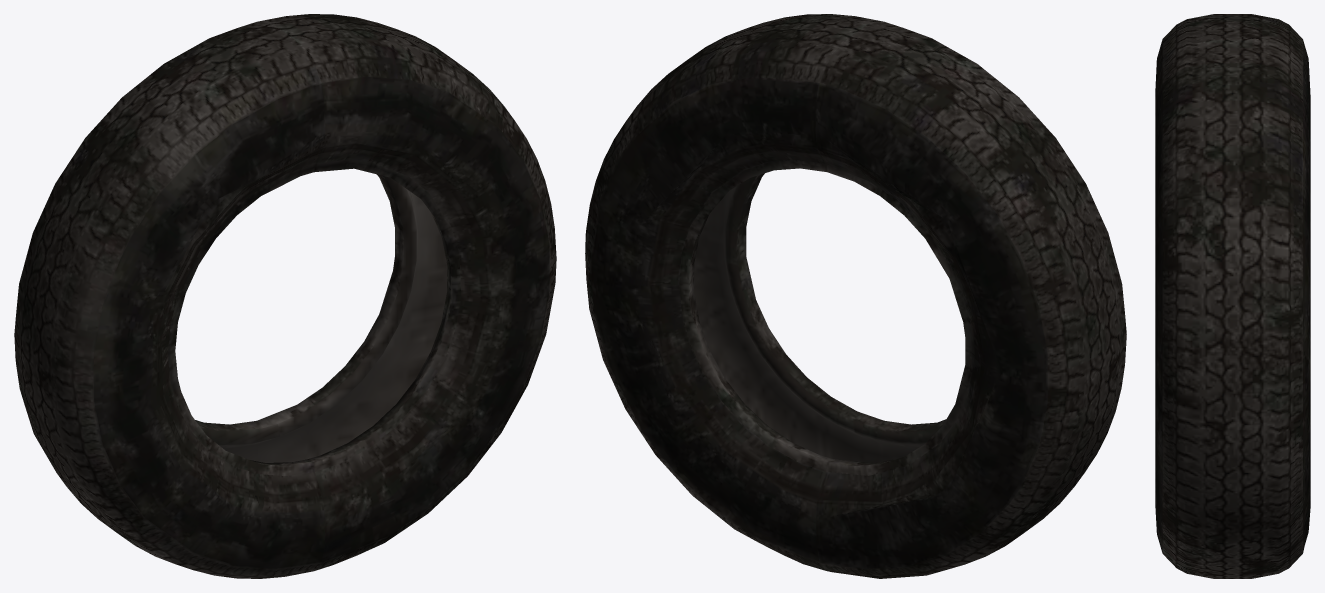
Rendered from old_tyre.glb.
3 views of the same model, side by side, from view 1: azimuth 30°, elevation 25°; view 2: azimuth 150°, elevation 25°; view 3: azimuth 270°, elevation 25° (orthographic). The views are drawn at different scales.
Visible parts, largest first — view 1: old_tyre; view 2: old_tyre; view 3: old_tyre.
Boxes of the visible parts, left/top/right/bottom form: old_tyre: left=14, top=14, right=556, bottom=578; old_tyre: left=585, top=14, right=1126, bottom=578; old_tyre: left=1155, top=14, right=1310, bottom=578.
Size of the model in its own units: 0.6 by 0.6 by 0.165.
1 material, 1 textured.
